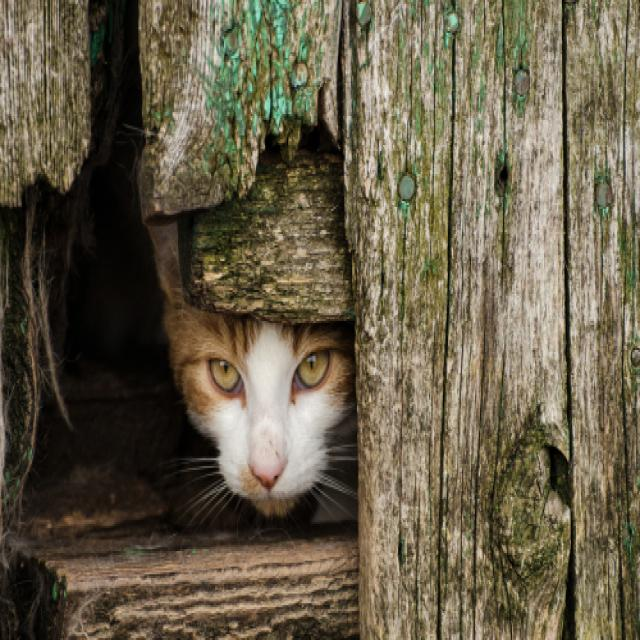cat: (149, 226, 354, 516)
